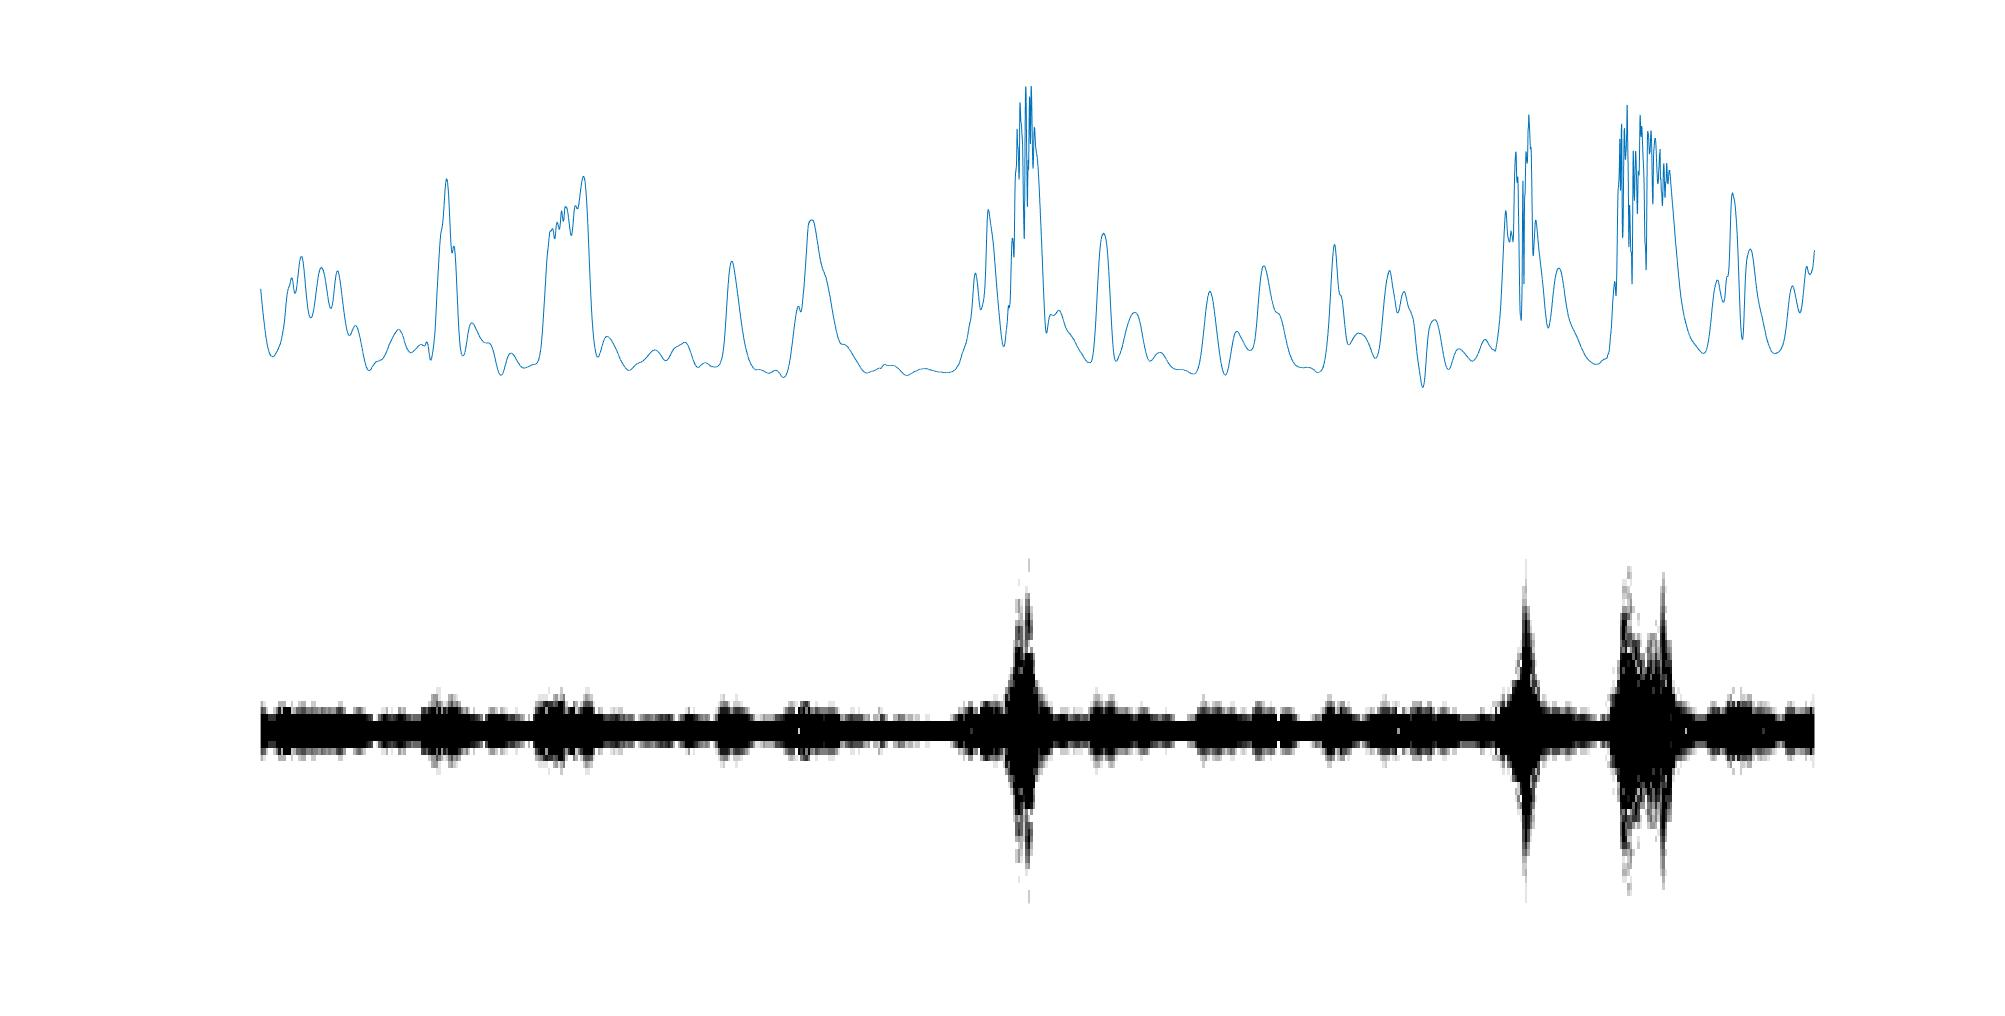spot: (1613, 569, 1682, 881), (1506, 584, 1545, 879), (1009, 577, 1040, 875)
